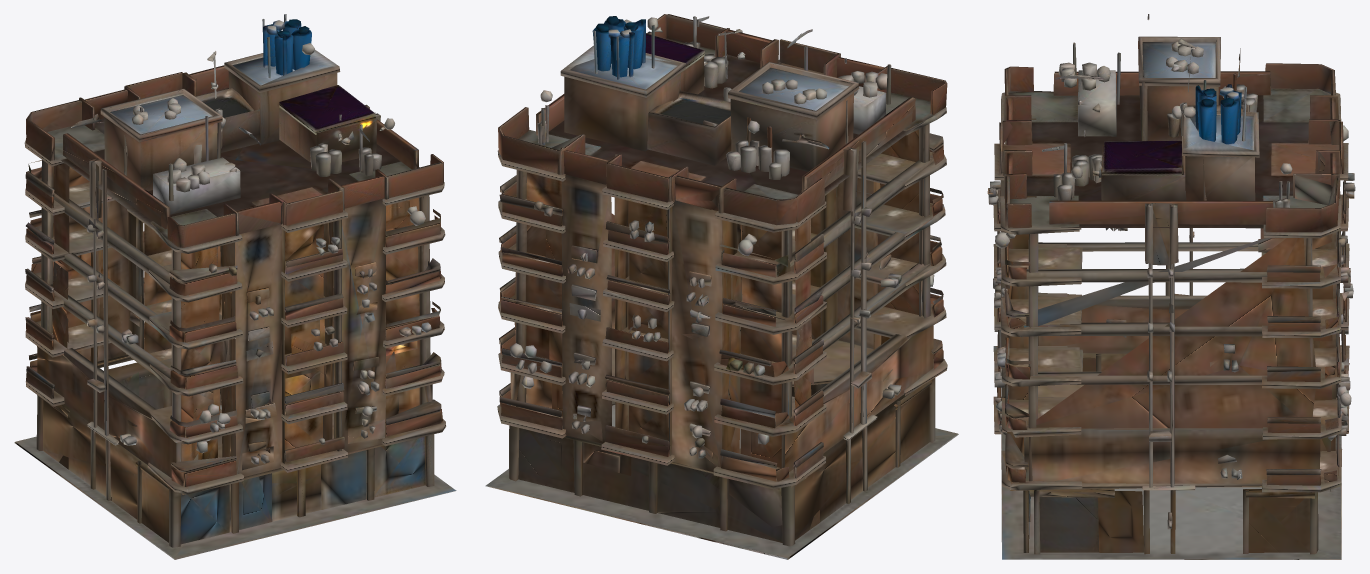
The picture shows the model from 3 angles, left to right: view 1: azimuth 30°, elevation 25°; view 2: azimuth 150°, elevation 25°; view 3: azimuth 270°, elevation 25°; orthographic projection. The views are drawn at different scales.
Parts seen in each view (by area): view 1: geometry_0; view 2: geometry_0; view 3: geometry_0.
Boxes of the visible parts, x1,y1,x2,y2 form: geometry_0: [14, 14, 456, 559]; geometry_0: [485, 14, 958, 559]; geometry_0: [987, 14, 1355, 559].
Bounding box in the file's own units: 0.7224 × 1 × 0.7647.
1 material, 1 textured.
